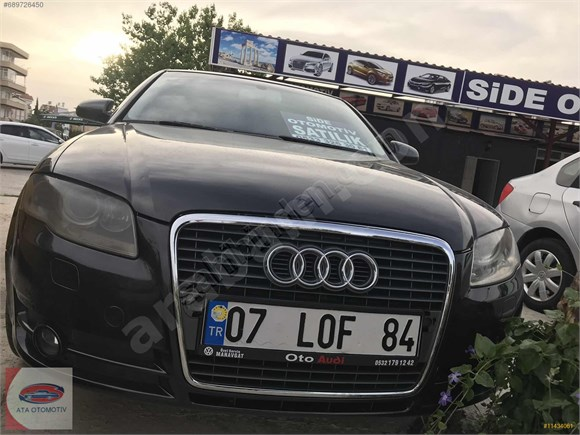audi: (257, 238, 383, 298)
